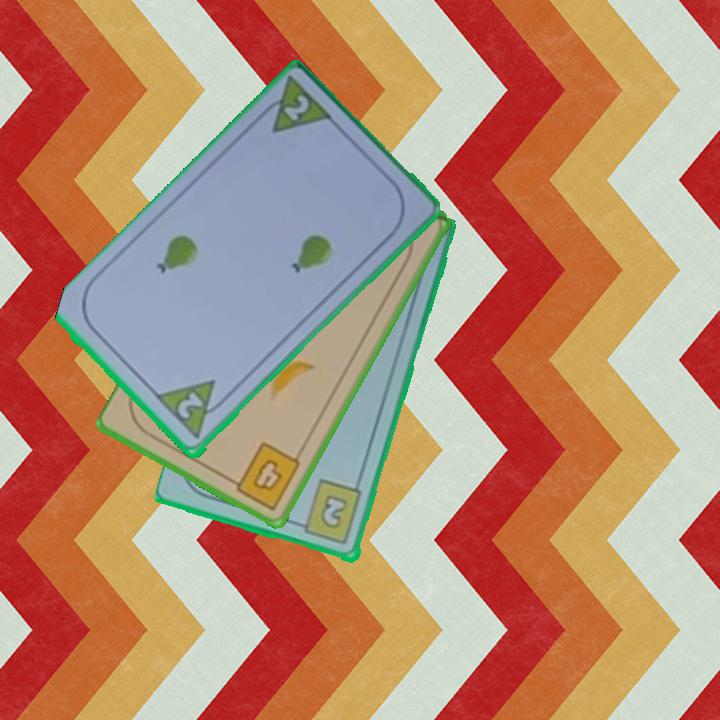2b: (292, 476, 366, 548)
2p: (153, 377, 232, 444), (280, 91, 313, 126)
4b: (225, 438, 304, 514)
